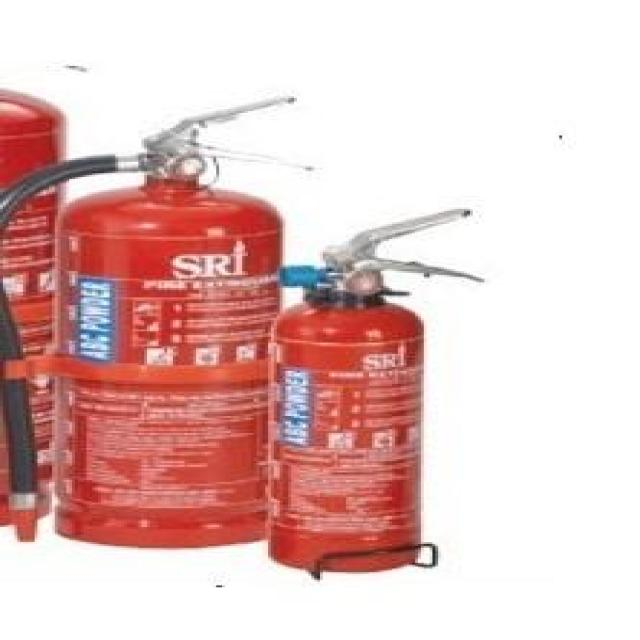fire_extinguisher: (0, 92, 314, 554), (257, 203, 487, 574), (0, 82, 81, 534)
